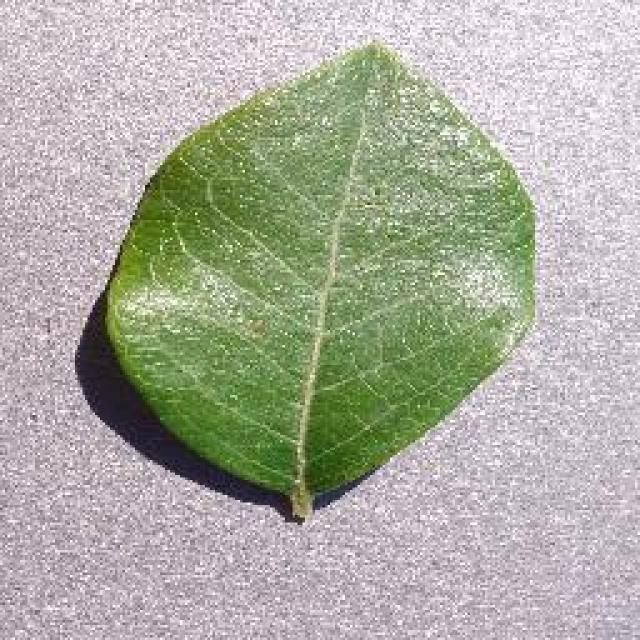Blu_healthy: (140, 122, 515, 432)
